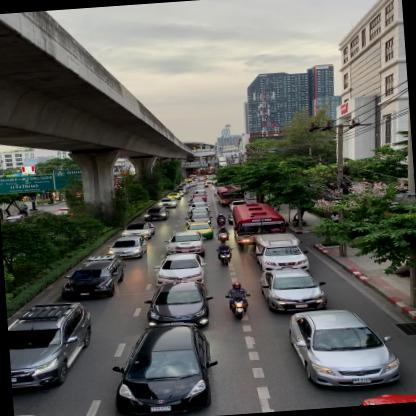bus: (230, 201, 286, 248), (216, 184, 247, 208)
car: (288, 305, 406, 394), (112, 322, 219, 415), (7, 300, 93, 390), (143, 280, 214, 333), (258, 266, 332, 315), (60, 255, 124, 300), (252, 231, 314, 274), (152, 251, 209, 284), (164, 228, 208, 256), (106, 235, 147, 260), (122, 221, 155, 240), (184, 221, 213, 238), (142, 206, 172, 221), (186, 213, 214, 225)
motorcycle: (225, 282, 254, 321), (216, 242, 235, 267), (218, 226, 232, 244), (217, 214, 228, 228)
